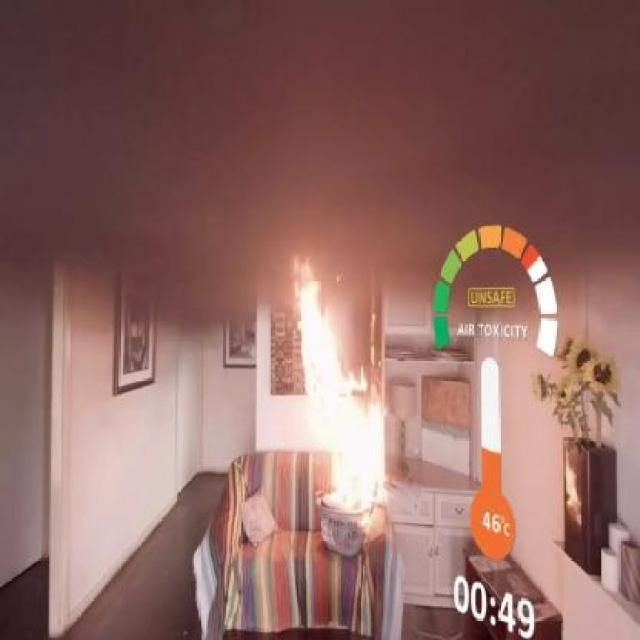fire: (276, 254, 401, 543)
smoke: (53, 26, 638, 252)
